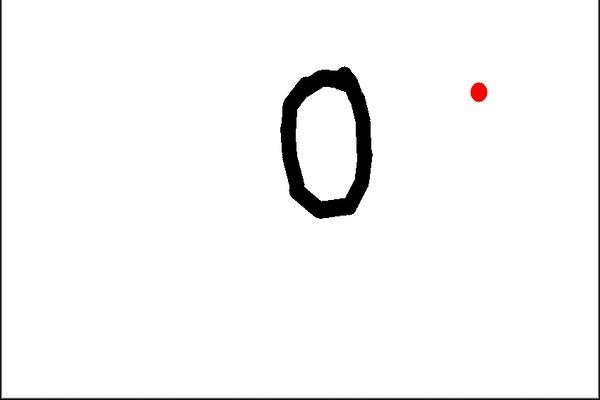O: (256, 54, 381, 229)
